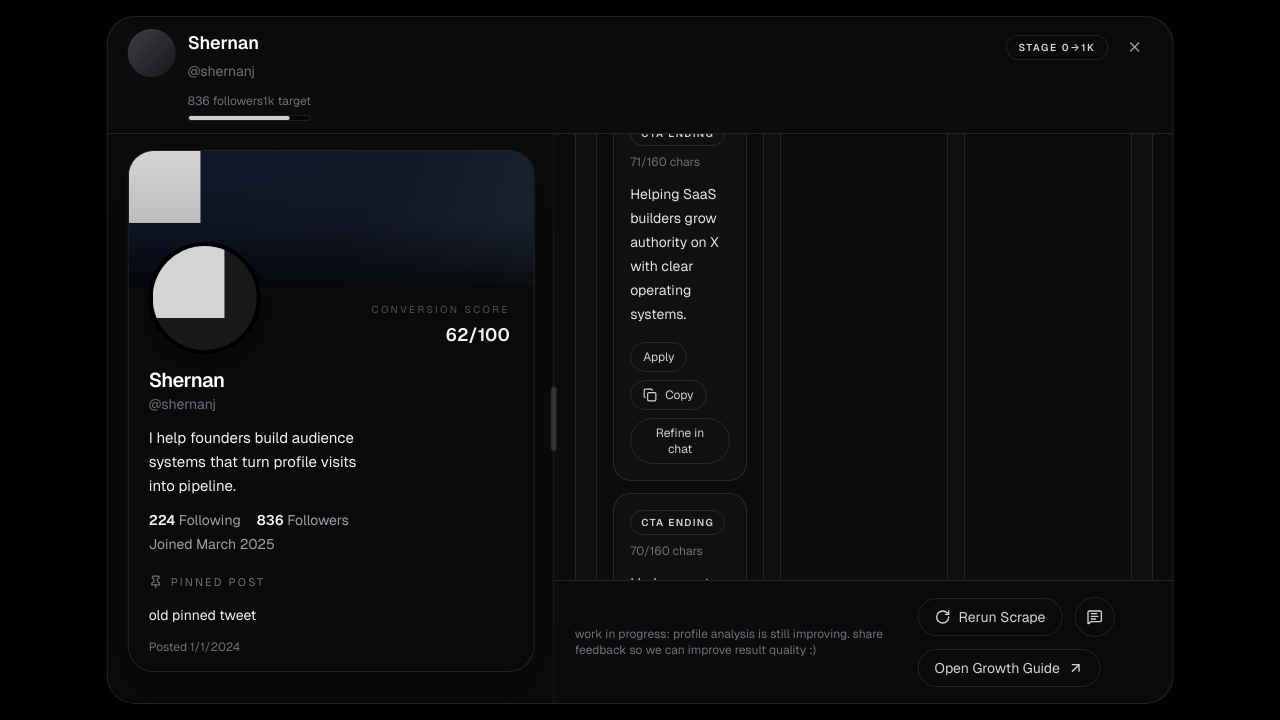
it: updates the left preview card when a different bio rewrite is applied
(page scrolled)
expect the text "I help founders build audience systems that turn profile visits into pipeline." is shown: met, box [149, 426, 370, 498]
Click the button "Apply". click: [658, 357]
box: [630, 342, 687, 372]
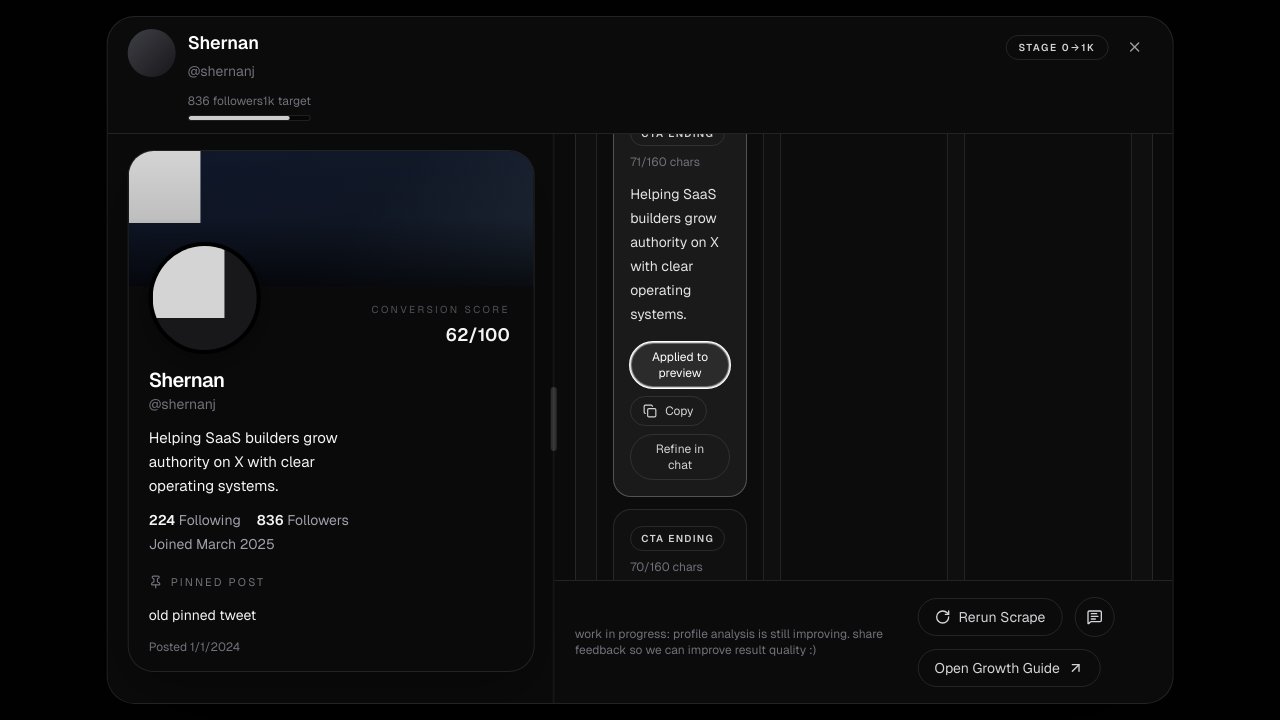
expect the text "I help founders build audience systems that turn profile visits into pipeline." is gone: met
expect the text "Helping SaaS builders grow authority on X with clear operating systems." below "62" is shown: met, box [149, 428, 342, 495]
